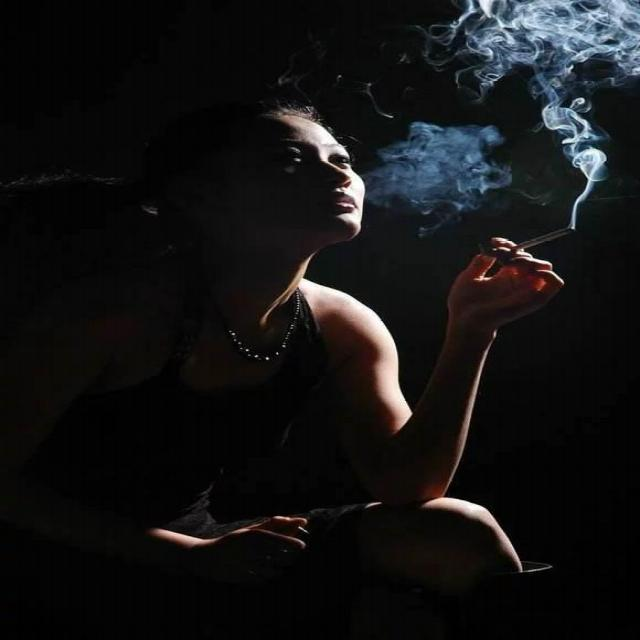smoke: (484, 216, 587, 265)
